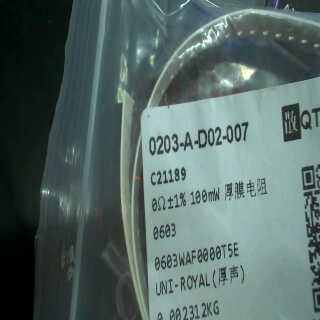0R: (149, 187, 224, 244)
